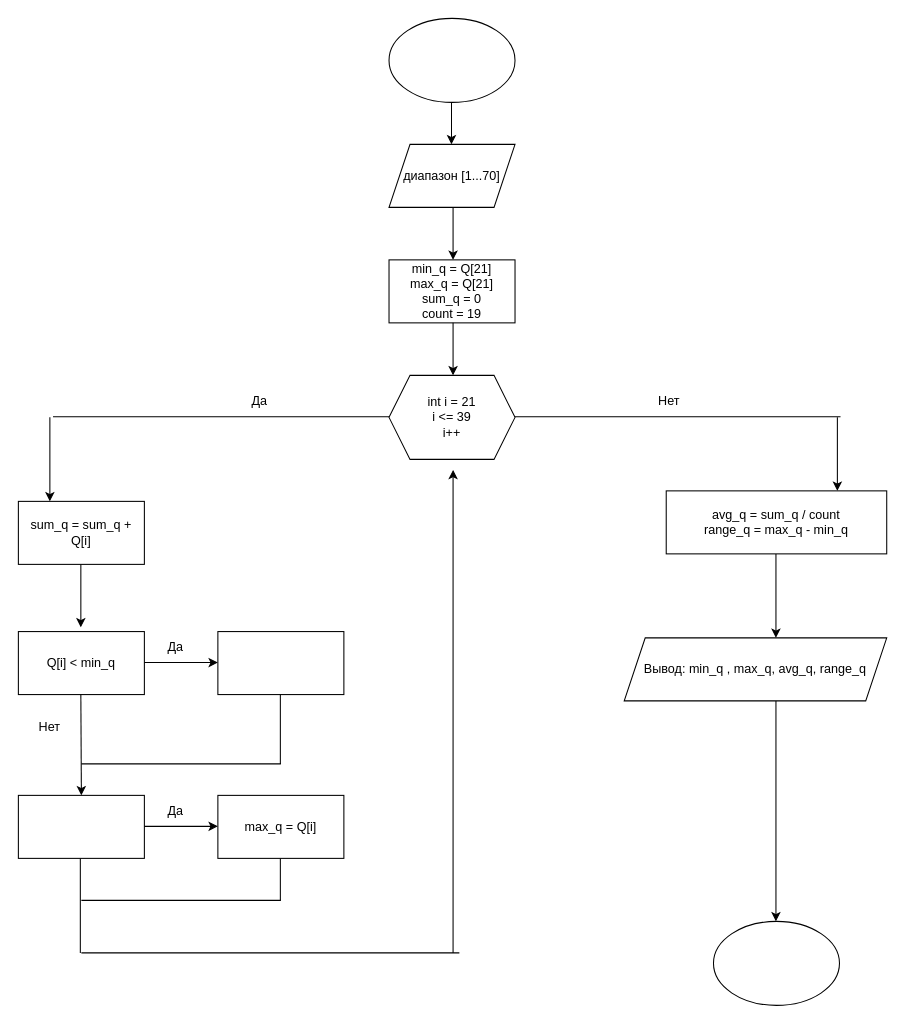
This 905x1024 diagram has some shape labels left out. Each missing label, with the box of its shape:
min_q = Q[i]: (217, 631, 344, 695)
Q[i] > max_q: (17, 794, 144, 858)
Конец: (712, 920, 839, 1005)
Начало: (388, 17, 515, 102)
